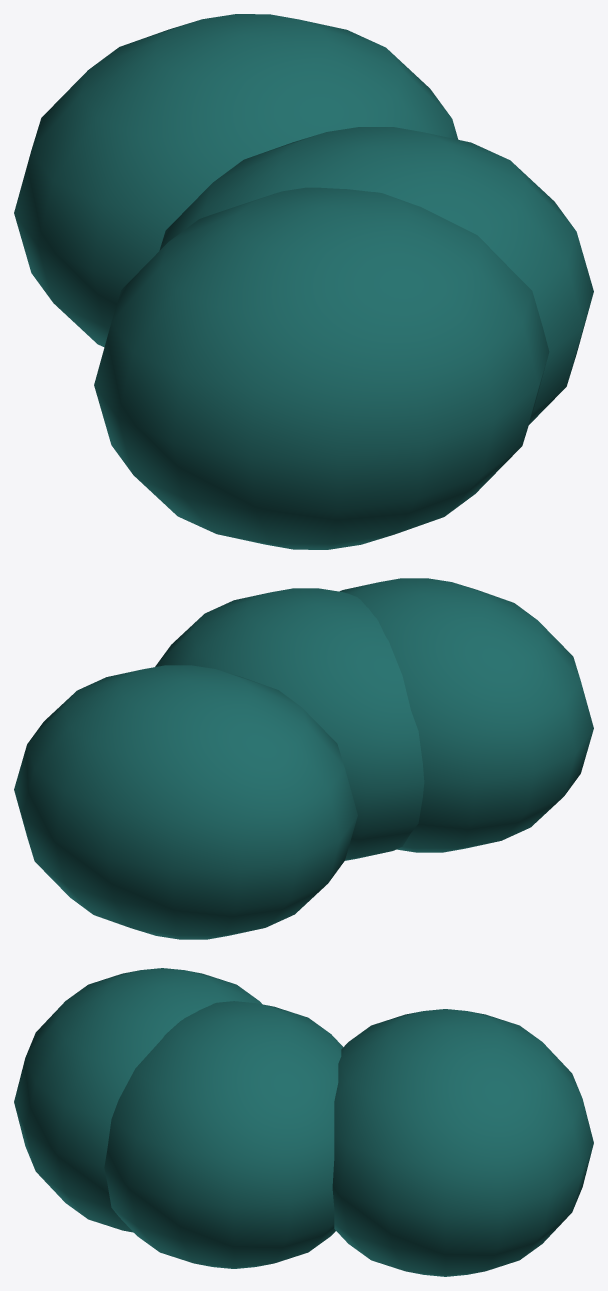
Rendered from moss_crop_seedling.glb.
3 views of the same model, one above another, from view 1: azimuth 30°, elevation 25°; view 2: azimuth 150°, elevation 25°; view 3: azimuth 270°, elevation 25° (orthographic). The views are drawn at different scales.
Parts seen in each view (by area): view 1: Mound.001, Mound.002, Mound; view 2: Mound.002, Mound.001, Mound; view 3: Mound.002, Mound, Mound.001.
Part boxes in pixels (<box>): Mound.001: <box>94,187,549,549</box>; Mound.002: <box>14,14,458,347</box>; Mound: <box>159,127,593,424</box>; Mound.002: <box>14,665,357,939</box>; Mound.001: <box>339,578,593,852</box>; Mound: <box>155,588,424,860</box>; Mound.002: <box>332,1009,593,1276</box>; Mound: <box>104,1001,343,1268</box>; Mound.001: <box>14,968,261,1232</box>.
Size of the model in its own units: 0.1151 by 0.0672 by 0.1531.
